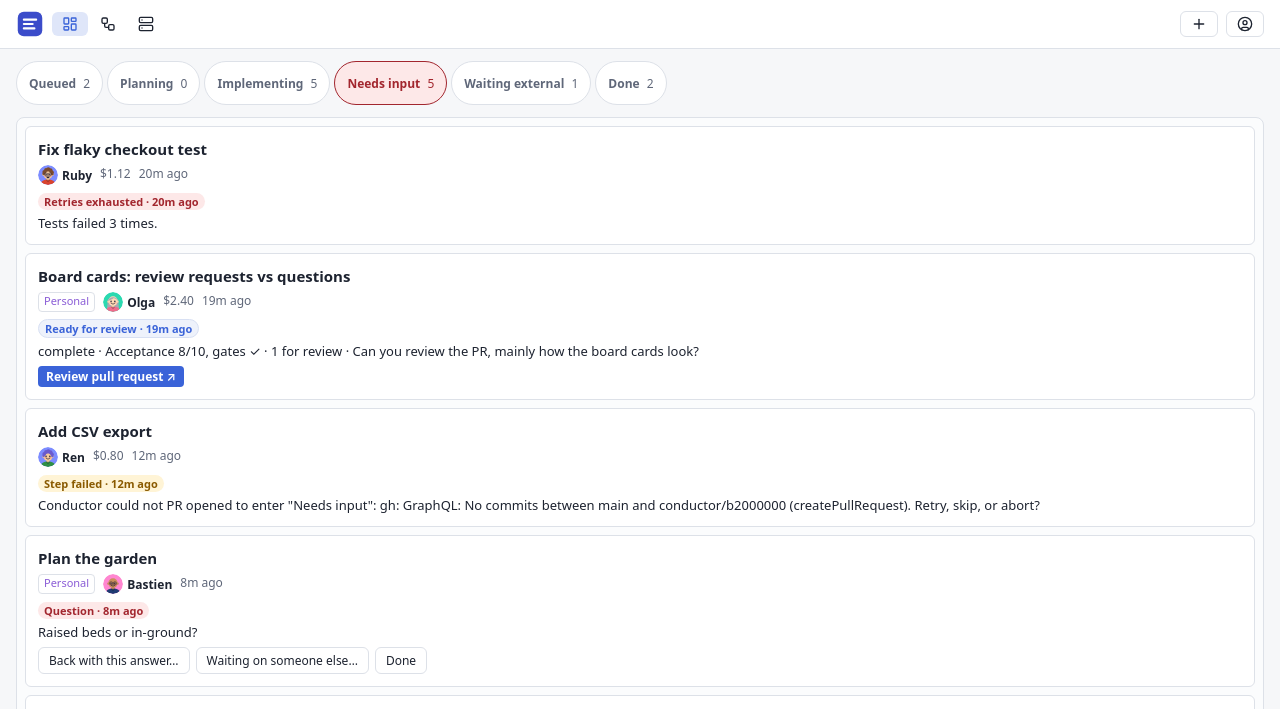
it: phone create ticket (11-web-ui §Create ticket) › is a "New ticket" dialog with Close and a reason while Create ticket is disabled
Expected: the button named "local" is shown, [1226,11,1264,37]
Click the button named "New ticket".
click(1199, 24)  # box [1180,11,1218,37]
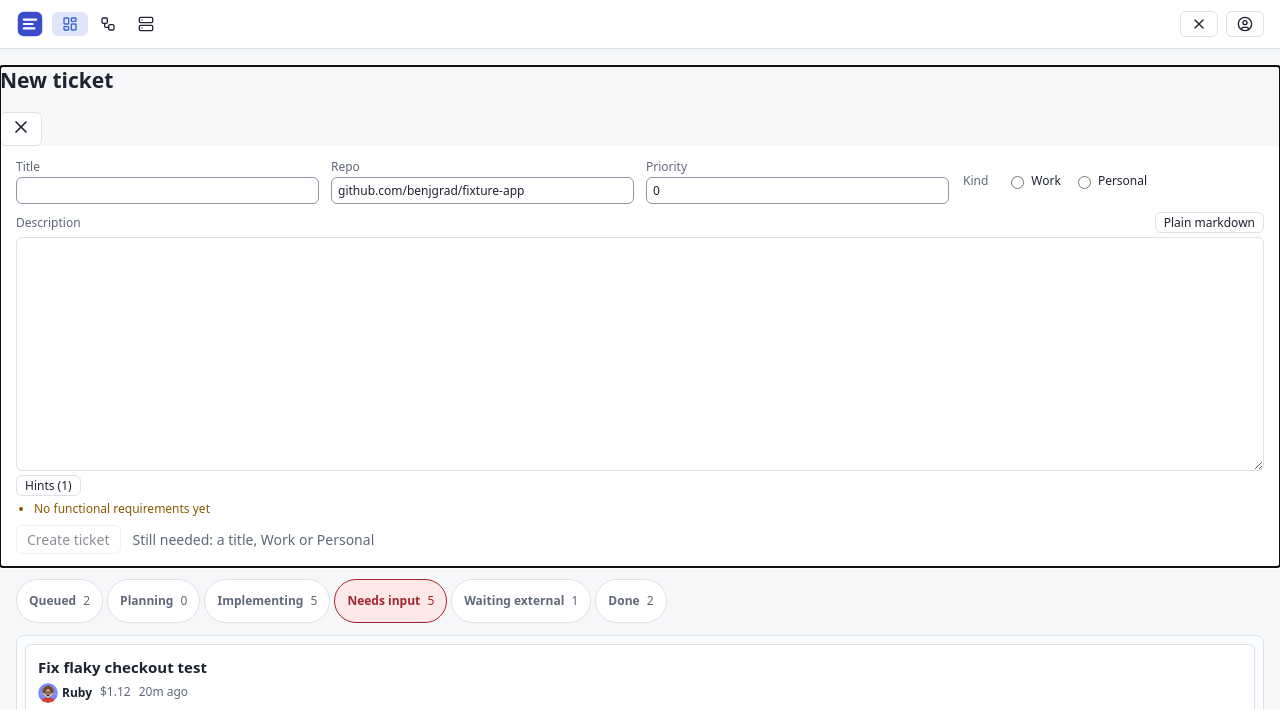
Expected: the dropdown labelled "Repo" is not empty, [331,177,634,204]
Expected: the button "Create ticket" is disabled, [16,525,120,554]
Expected: the text "Still needed: a title, Work or Personal" is shown, [132,530,374,549]
Click the button named "Close".
click(21, 129)  # box [0,112,42,146]
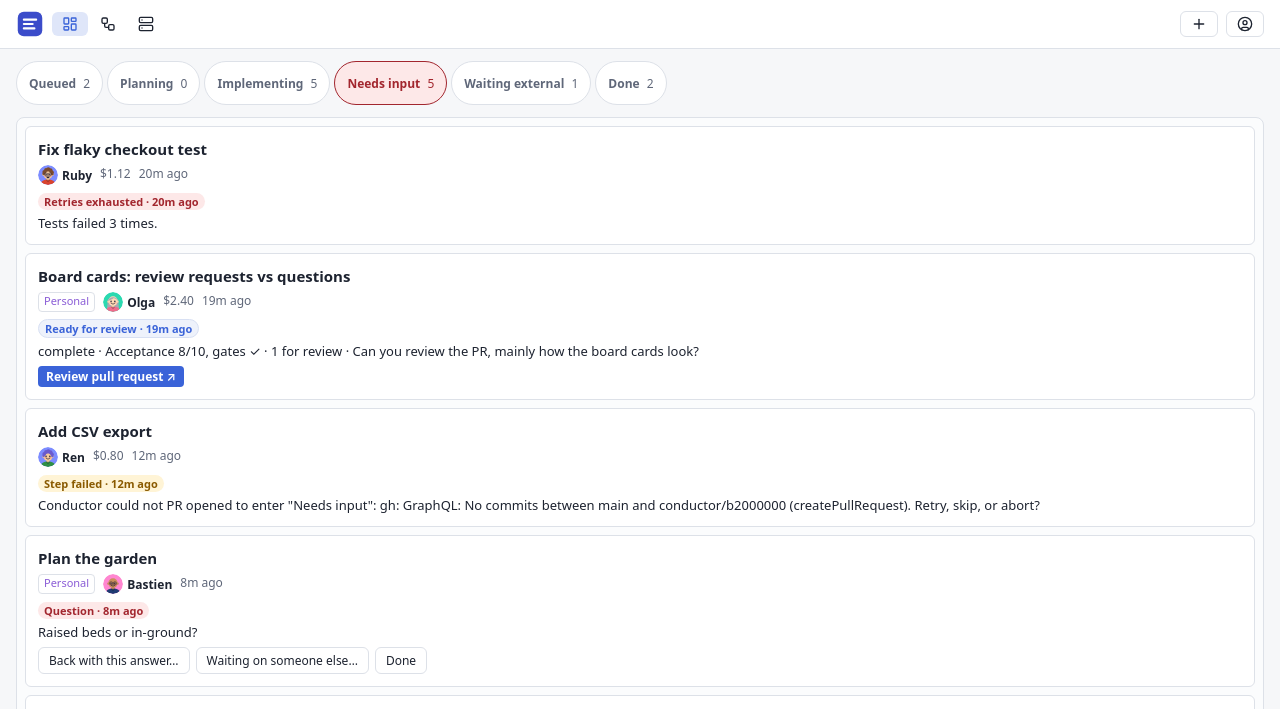
Expected: the heading "New ticket" is gone
